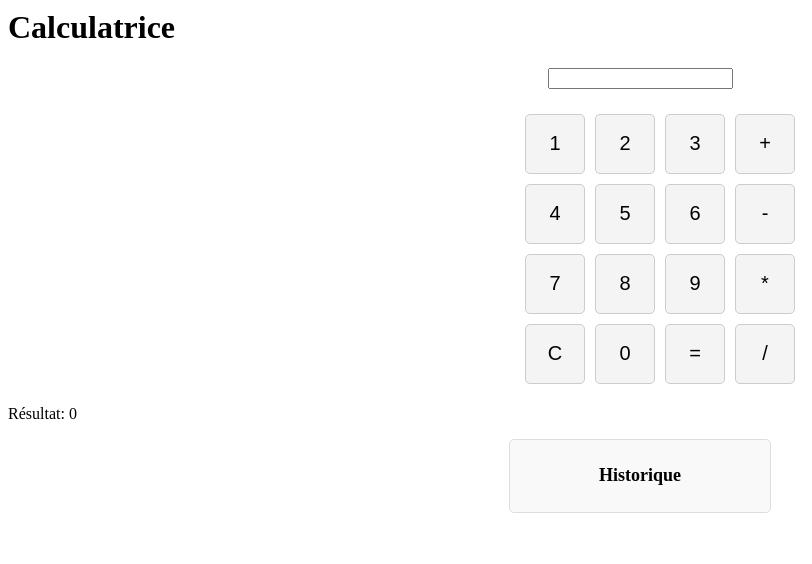
Test: Calculatrice › Effectue une division
The width and height of the screenshot is (812, 564).
Click the button with test id "9" at (695, 284), box [665, 254, 725, 314]
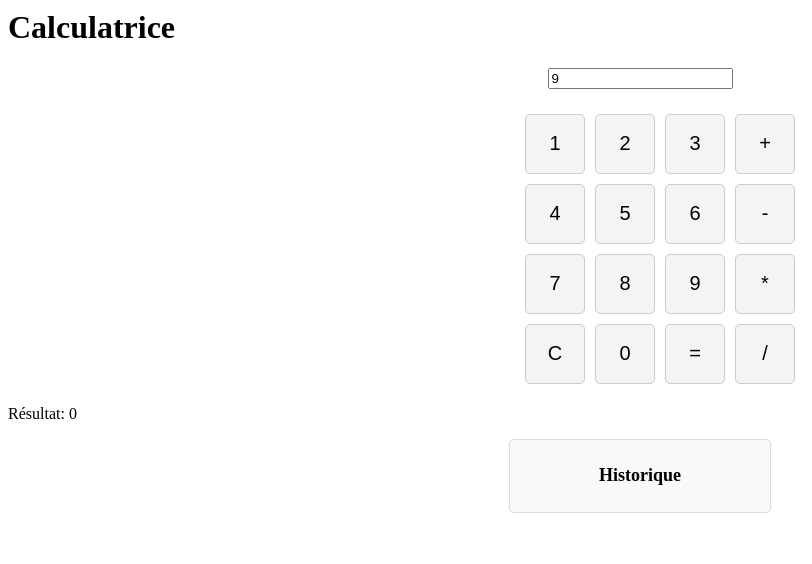
Click the button with test id "division" at (765, 354), box [735, 324, 795, 384]
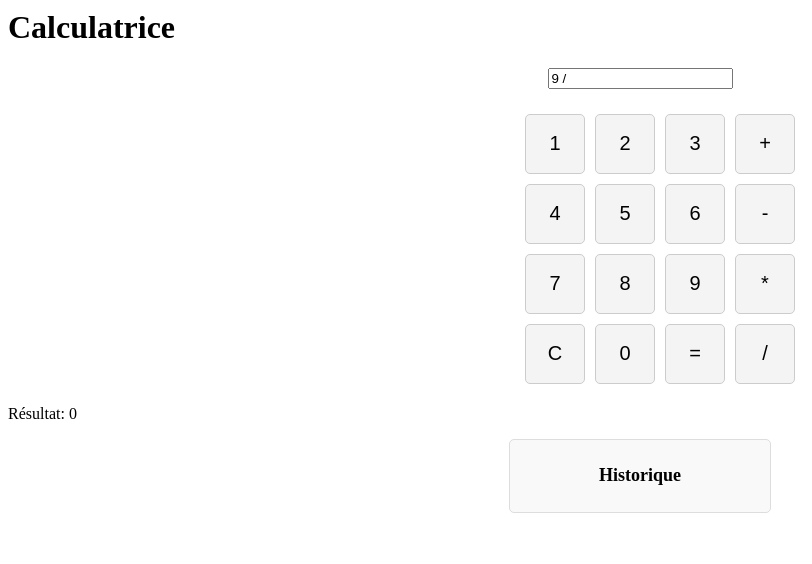
Click the button with test id "3" at (695, 144), box [665, 114, 725, 174]
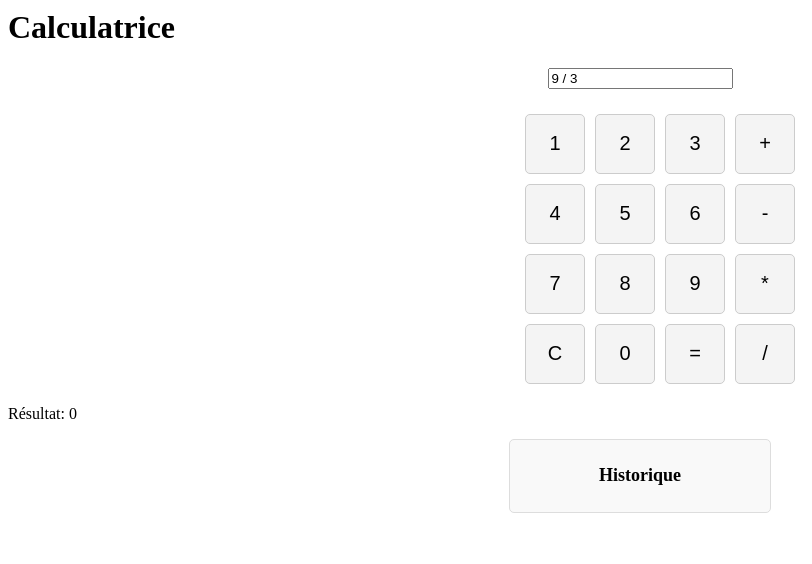
Click the button with test id "egal" at (695, 354), box [665, 324, 725, 384]
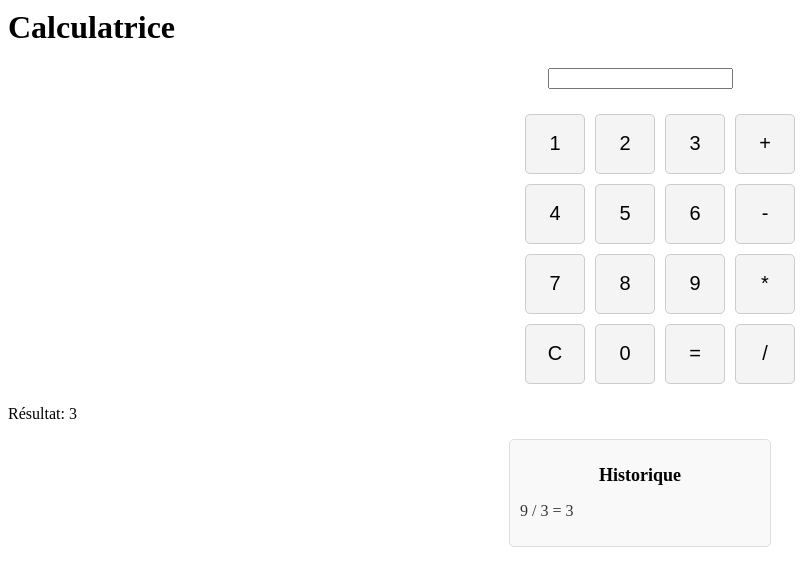
expect the text with test id "result" reads "3": met, box [69, 405, 77, 422]
expect the list item with test id "historique" reads "9 / 3 = 3": met, box [520, 502, 573, 519]
